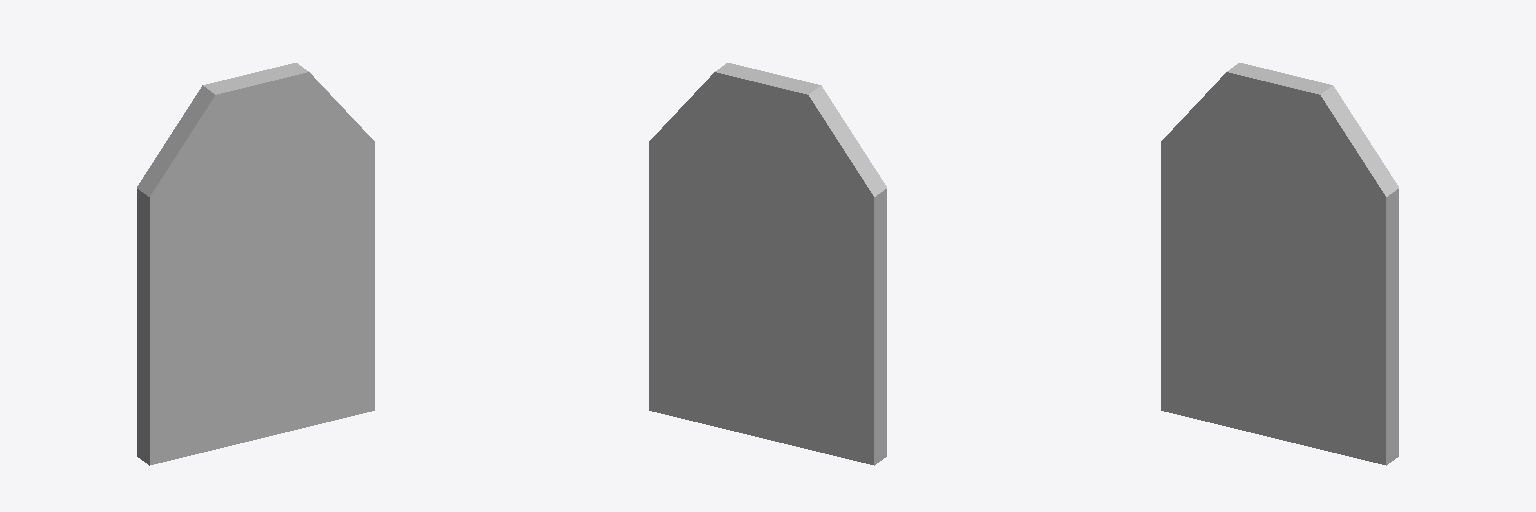
Rendered from gravestone1.obj.
3 renders of one model, left to right at view 1: azimuth 30°, elevation 25°; view 2: azimuth 150°, elevation 25°; view 3: azimuth 330°, elevation 25°, orthographic.
Parts seen in each view (by area): view 1: Object.1; view 2: Object.1; view 3: Object.1.
Boxes of the visible parts, box(x1,y1,x2,y2) form: Object.1: box(137, 63, 374, 465); Object.1: box(649, 63, 886, 465); Object.1: box(1161, 63, 1398, 465).
Bounding box in the file's own units: 0.76 × 1.14 × 0.076.